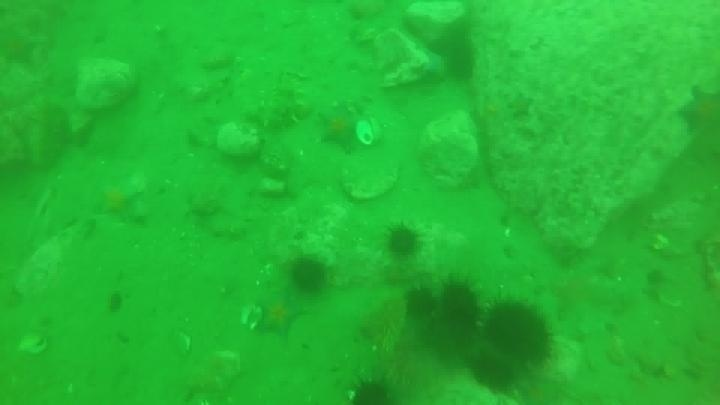echinus: (482, 299, 555, 367), (468, 349, 519, 394), (438, 279, 482, 328), (287, 255, 330, 297), (383, 223, 423, 260), (442, 42, 478, 83), (402, 285, 439, 321), (347, 377, 394, 404)
holothurian: (242, 77, 311, 133)
starfish: (92, 174, 146, 224), (253, 291, 307, 340), (677, 84, 720, 143), (314, 105, 362, 153), (1, 24, 41, 68), (504, 91, 536, 122)
